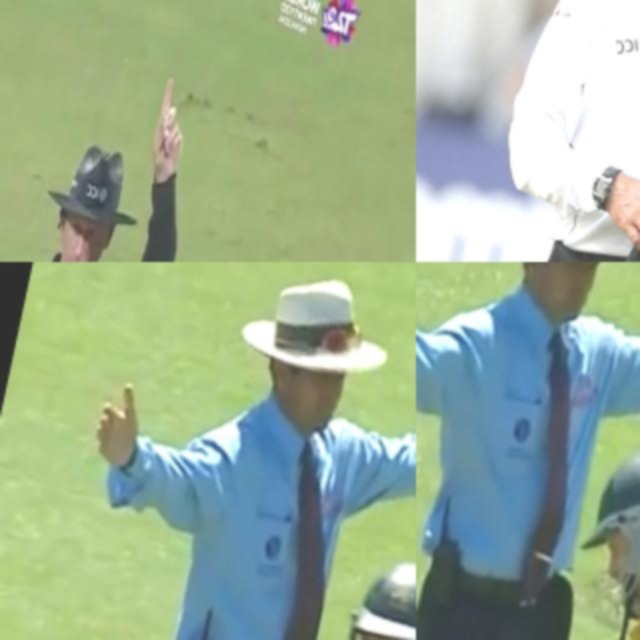No_Action: (454, 0, 640, 262)
Out: (0, 38, 217, 262)
Wide: (59, 262, 416, 640), (416, 262, 640, 640)
